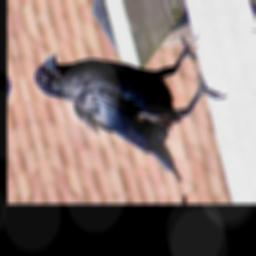Crow: (28, 33, 248, 196)
